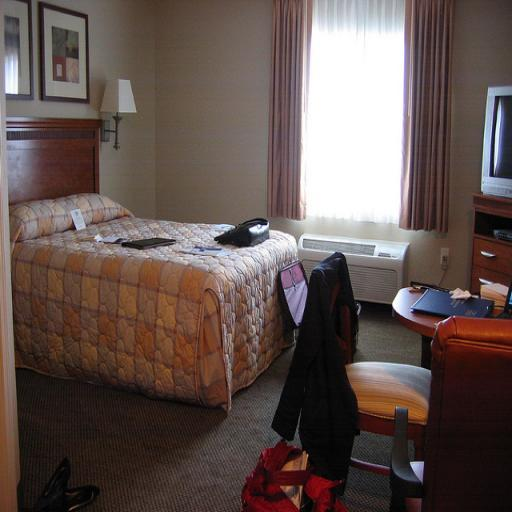bed: (0, 79, 334, 452)
